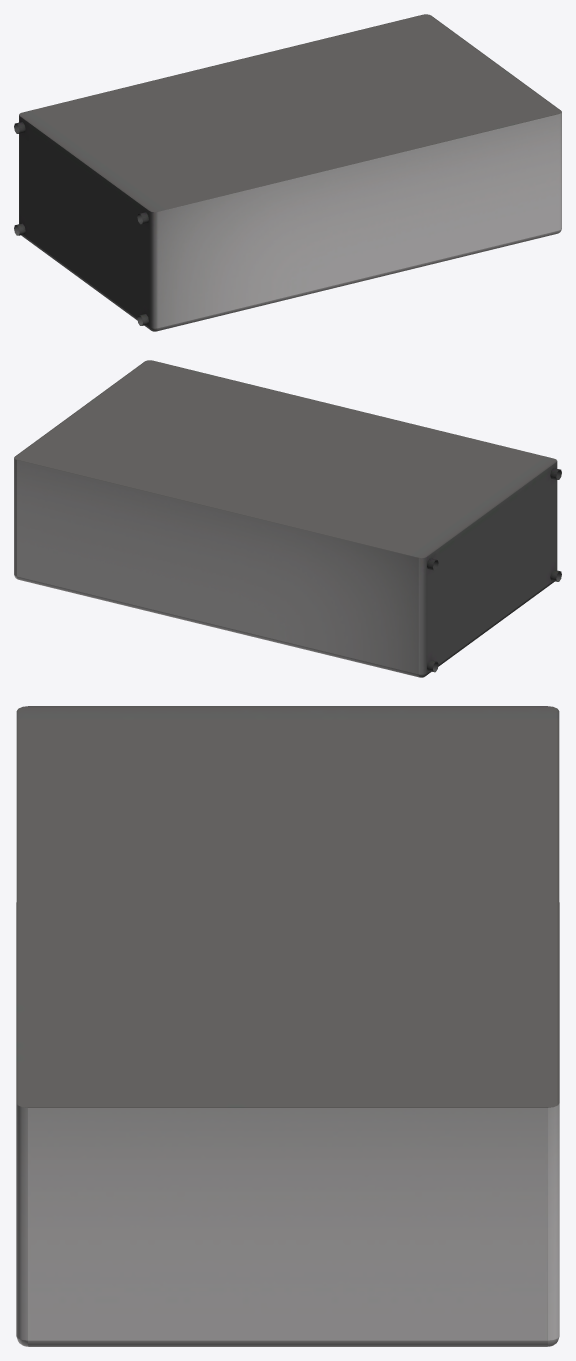
Rendered from props_gameplay_resupply_locker.glb.
3 renders of one model, top to bottom at view 1: azimuth 30°, elevation 25°; view 2: azimuth 150°, elevation 25°; view 3: azimuth 270°, elevation 25°, orthographic. The views are drawn at different scales.
Parts seen in each view (by area): view 1: models/props_gameplay/resupply_locker; view 2: models/props_gameplay/resupply_locker; view 3: models/props_gameplay/resupply_locker.
Boxes of the visible parts, <box> form: models/props_gameplay/resupply_locker: <box>14,14,561,331</box>; models/props_gameplay/resupply_locker: <box>14,360,561,677</box>; models/props_gameplay/resupply_locker: <box>16,706,559,1346</box>.
Bounding box in the file's own units: 113 × 35.37 × 63.79.
4 materials, 4 textured.
